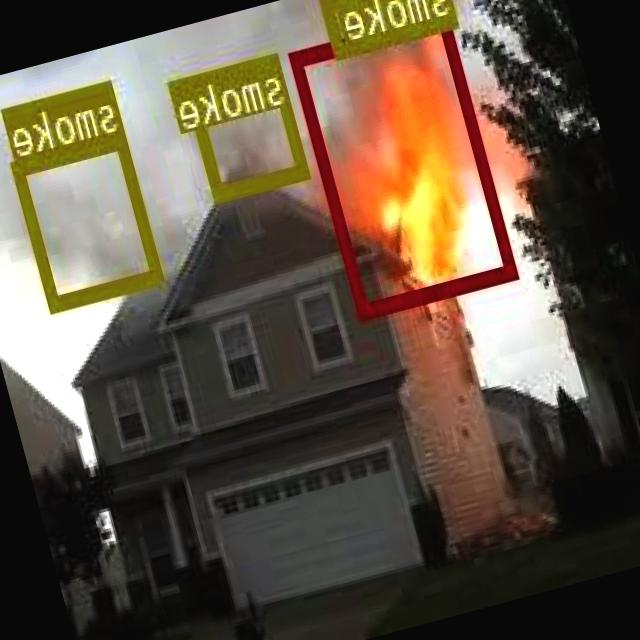fire: (290, 6, 521, 316)
smoke: (12, 128, 165, 310), (183, 50, 311, 197), (321, 0, 458, 54)
